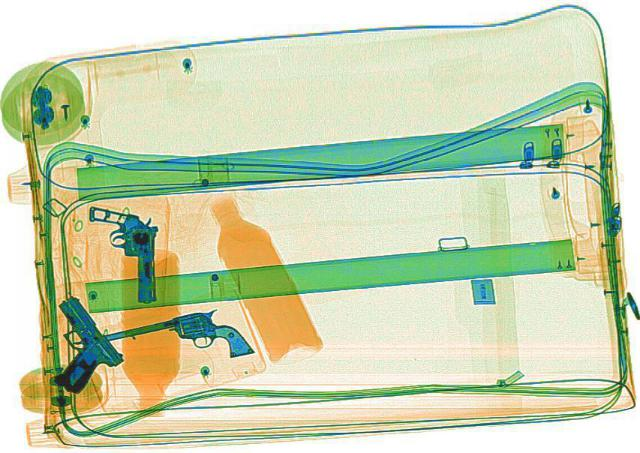Gun: (69, 305, 254, 386), (46, 287, 124, 398), (84, 204, 158, 301)
